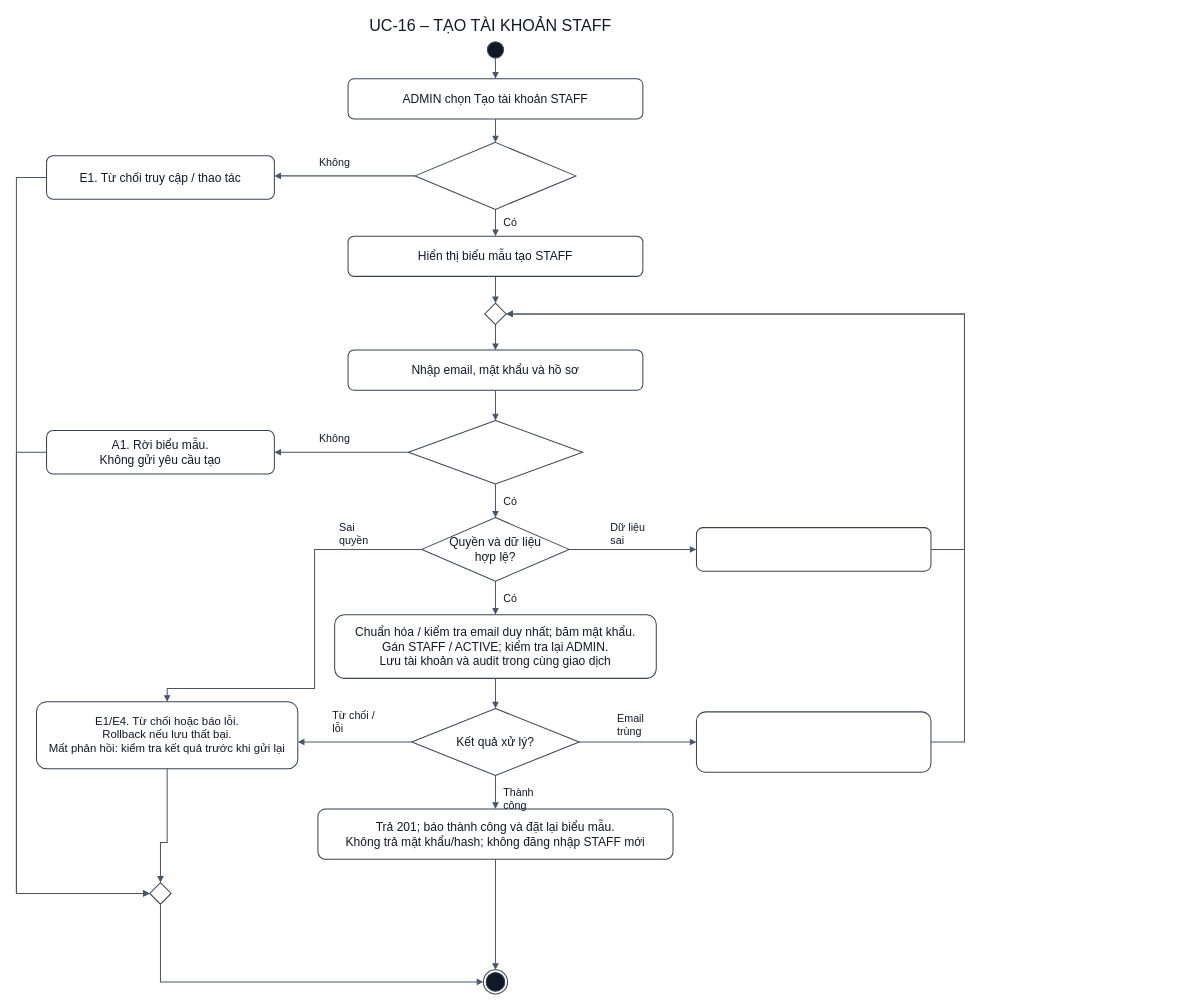
The diagram is 1184 pixels wide and 1006 high, and some of its shapes have lost their labels. Each missing label, with the centre of its shape:
"E2. Thông báo lỗi đầu vào (400)" belongs at point 813,549.
"E3. Email trùng (409), kể cả xung đột đồng thời. Không tạo tài khoản thứ hai" belongs at point 813,741.
"Gửi yêu cầu tạo nhân viên?" belongs at point 495,452.
"Phiên hợp lệ và vai trò ADMIN?" belongs at point 495,176.
